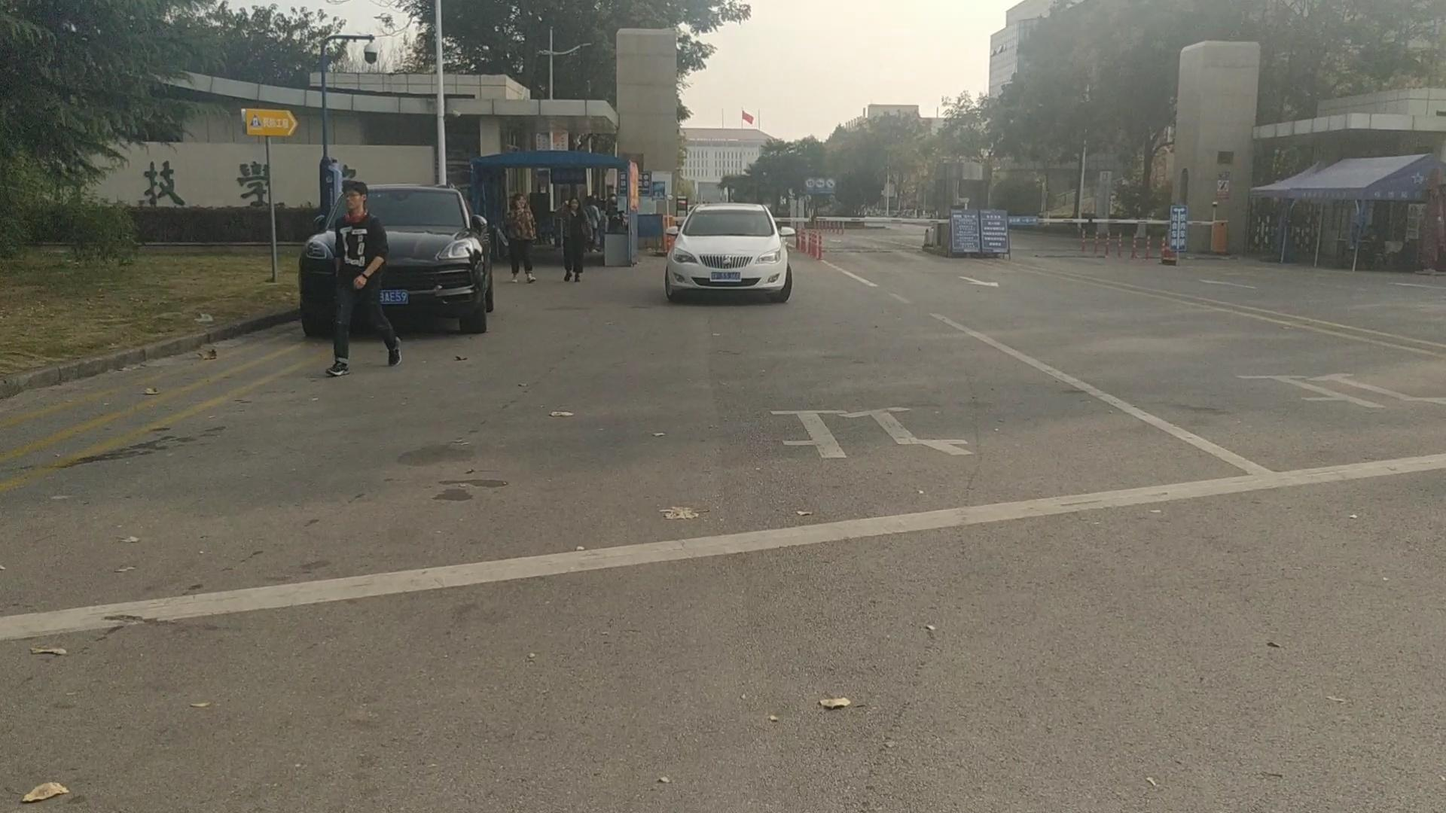car: (299, 182, 496, 346), (664, 202, 794, 303), (1010, 214, 1042, 229)
